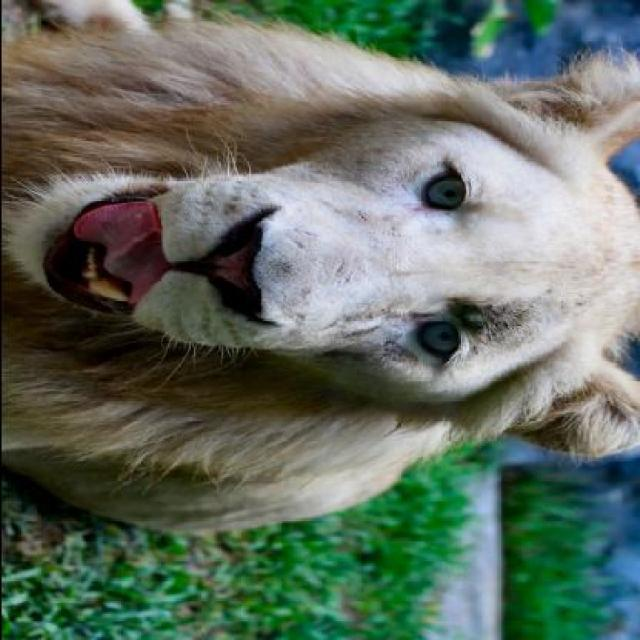Lion: (1, 21, 634, 582)
